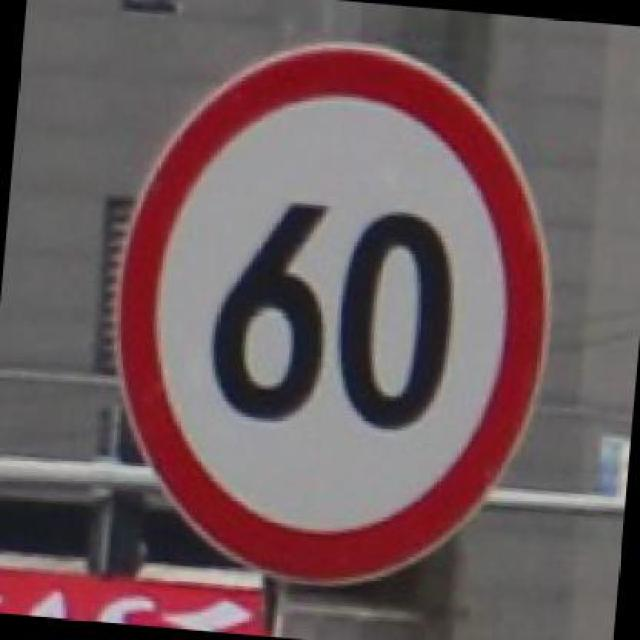Limite-60: (107, 38, 556, 584)
